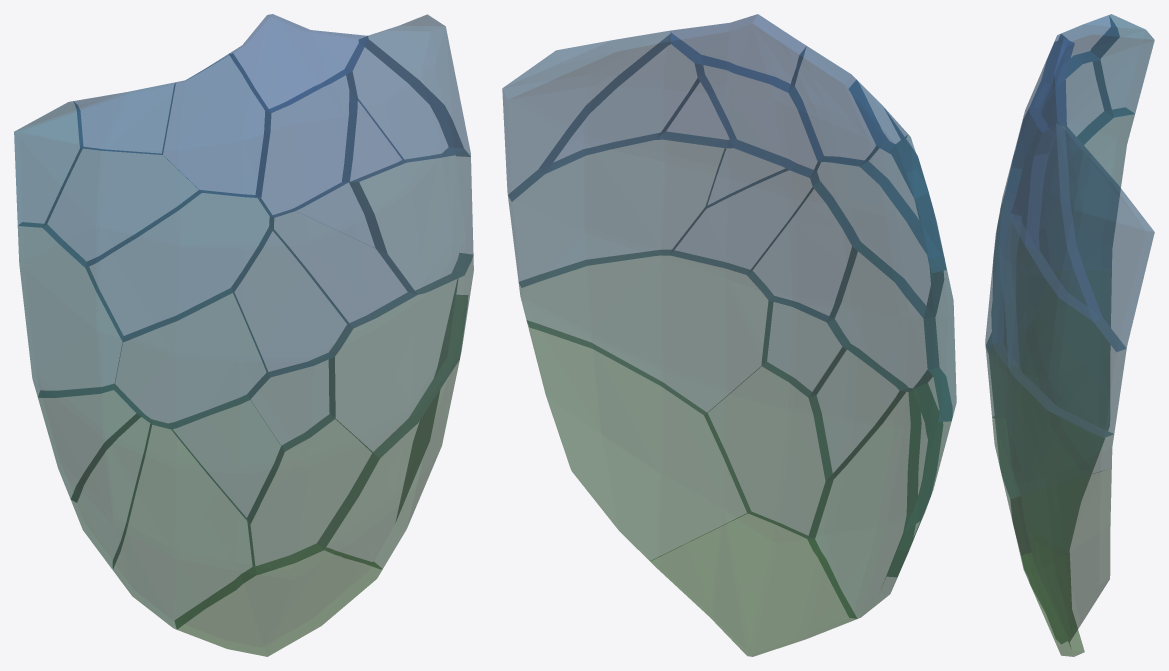
Rendered from ShieldCrackFinish.fbx.
The picture shows the model from 3 angles, left to right: view 1: azimuth 30°, elevation 25°; view 2: azimuth 150°, elevation 25°; view 3: azimuth 270°, elevation 25°; orthographic projection. The views are drawn at different scales.
Visible parts, largest first — view 1: Object01; view 2: Object01; view 3: Object01.
Boxes of the visible parts, x1,y1,x2,y2 form: Object01: (14,14,473,656); Object01: (502,14,956,656); Object01: (985,14,1154,656).
Size of the model in its own units: 0.0152 by 0.0207 by 0.00515.
